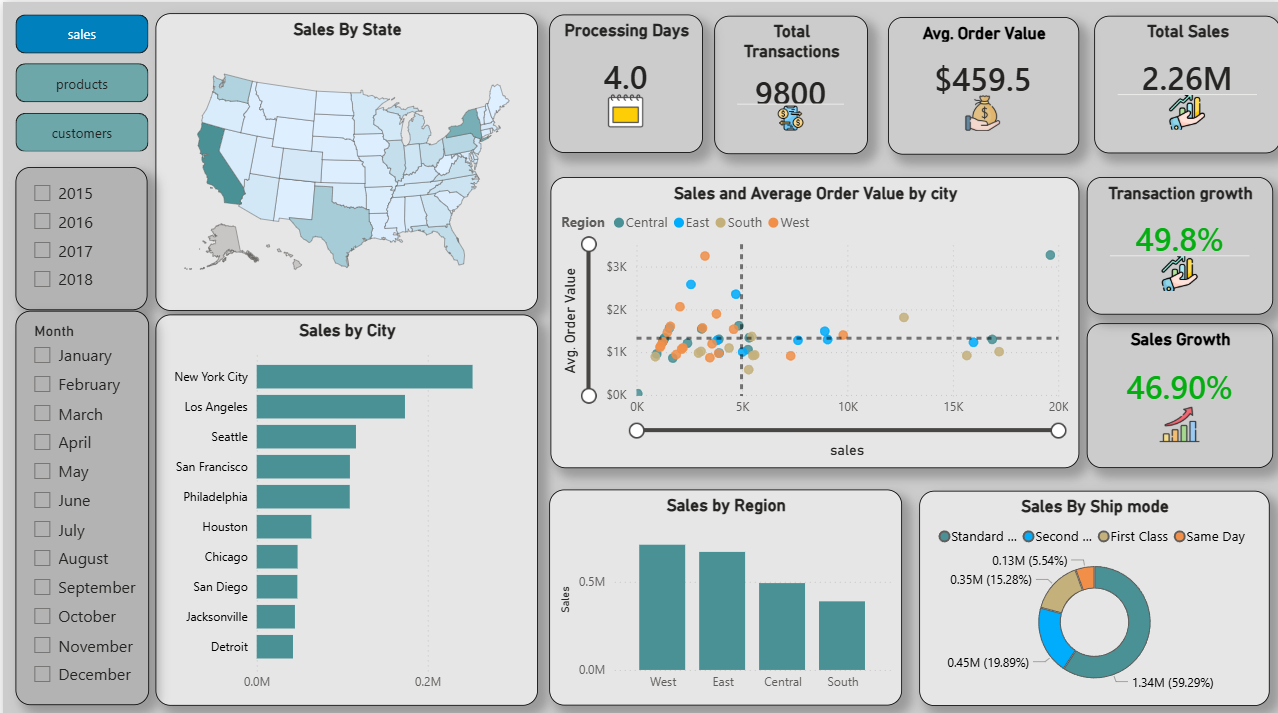

This screenshot's page, from the dashboard's own definition file:
{"tool":"powerbi","page":{"name":"sales ","canvas":[1280,720],"ordinal":0},"visuals":[{"type":"shapeMap","title":"Sales By State","fields":{"Category":["Table1.State"],"Value":["Sum(Table1.Sales)"]},"box":[152.5,11.2,382.5,297.5],"z":0},{"type":"barChart","title":" Sales by City","fields":{"Y":["Sum(Table1.Sales)"],"Category":["Table1.City"]},"box":[152.5,312.5,382.5,391.2],"z":1000},{"type":"slicer","fields":{"Values":["Table1.Order Date.Variation.Date Hierarchy.Year"]},"box":[12.2,165.6,132.2,143.3],"z":2000},{"type":"slicer","fields":{"Values":["Table1.Order Date.Variation.Date Hierarchy.Month"]},"box":[12.2,308.9,133.3,394.4],"z":3000},{"type":"cardVisual","title":"Total Transactions","fields":{"Data":["Table1.total transacion"]},"box":[711.2,13.8,153.8,138.8],"z":4000},{"type":"cardVisual","title":"Processing Days","fields":{"Data":["Avg(Table1.processing days)"]},"box":[546.4,12.7,153.6,138.2],"z":5000},{"type":"columnChart","title":" Sales by Region","fields":{"Category":["Table1.Region"],"Y":["Sum(Table1.Sales)"]},"box":[546.2,487.5,352.5,216.2],"z":6000},{"type":"scatterChart","title":"Sales and Average Order Value by city","fields":{"X":["Sum(Table1.Sales)"],"Y":["Table1.average sales per order"],"Series":["Table1.Region"],"Category":["Table1.City"]},"box":[547.5,175,528.8,291.2],"z":7000},{"type":"cardVisual","title":"Total Sales","fields":{"Data":["Sum(Table1.Sales)"]},"box":[1090.9,13.6,186.4,137.3],"z":8000},{"type":"donutChart","title":"Sales By Ship mode","fields":{"Category":["Table1.Ship Mode"],"Y":["Sum(Table1.Sales)"]},"box":[916.2,488.8,350,215],"z":9000},{"type":"cardVisual","title":"Sales Growth","fields":{"Data":["Table1.Yoy Growth"]},"box":[1083.8,321.2,186.2,145],"z":10000},{"type":"pageNavigator","box":[12.3,12.3,133.8,137.7],"z":11000},{"type":"cardVisual","title":"Avg. Order Value","fields":{"Data":["Table1.average sales per order"]},"box":[884.5,15.5,190.9,137.3],"z":12000},{"type":"cardVisual","title":"Transaction growth","fields":{"Data":["Table1.Transaction Growth"]},"box":[1083.8,175,186.2,137.5],"z":13000}]}

Visuals, with their boxes in screenshot pixels (x1, y1, x2, y2), scaled from the page's 1280x720 canvas onto the 1278x713 screenshot:
"Sales By State" shapeMap: 152/11/534/306
" Sales by City" barChart: 152/309/534/697
slicer - Table1.Order Date.Variation.Date Hierarchy.Year: 12/164/144/306
slicer - Table1.Order Date.Variation.Date Hierarchy.Month: 12/306/145/696
"Total Transactions" cardVisual: 710/14/864/151
"Processing Days" cardVisual: 546/13/699/149
" Sales by Region" columnChart: 545/483/897/697
"Sales and Average Order Value by city" scatterChart: 547/173/1075/462
"Total Sales" cardVisual: 1089/13/1275/149
"Sales By Ship mode" donutChart: 915/484/1264/697
"Sales Growth" cardVisual: 1082/318/1268/462
pageNavigator: 12/12/146/149
"Avg. Order Value" cardVisual: 883/15/1074/151
"Transaction growth" cardVisual: 1082/173/1268/309
